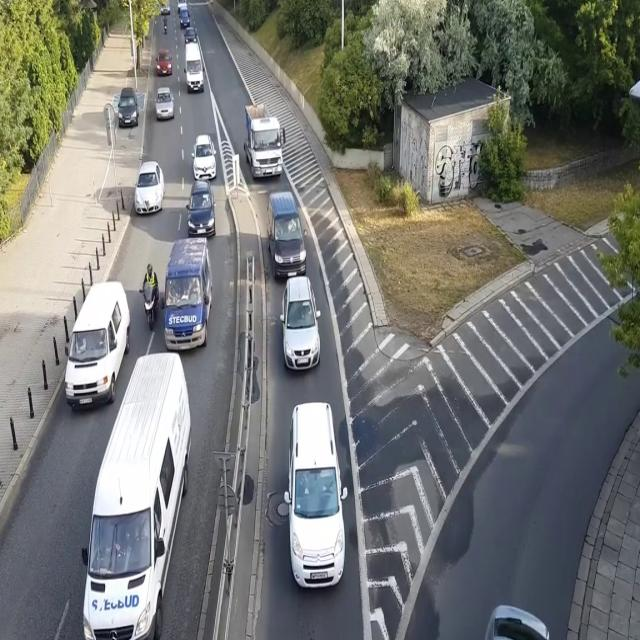car: (471, 603, 555, 640), (185, 178, 217, 240), (133, 158, 165, 218), (190, 133, 218, 181), (116, 86, 140, 128), (154, 84, 175, 122), (156, 47, 173, 78), (184, 28, 199, 44), (159, 0, 172, 14)
motorcycle: (138, 261, 162, 332), (163, 13, 169, 35)
truck: (243, 102, 288, 183)
van: (80, 350, 192, 640), (284, 404, 348, 586), (62, 278, 132, 410), (161, 233, 211, 350), (267, 188, 308, 280), (183, 41, 205, 94), (180, 5, 190, 30), (178, 0, 186, 14)
